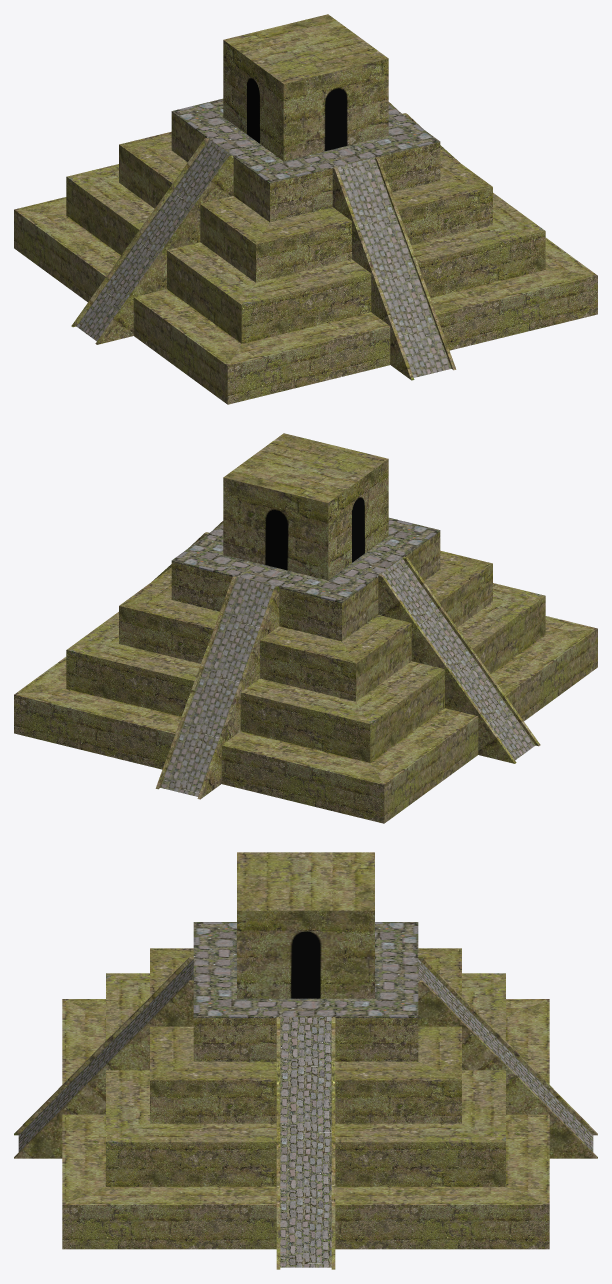
Rendered from Piramide.FBX.
The picture shows the model from 3 angles, top to bottom: view 1: azimuth 30°, elevation 25°; view 2: azimuth 150°, elevation 25°; view 3: azimuth 270°, elevation 25°; orthographic projection. The views are drawn at different scales.
Parts seen in each view (by area): view 1: Box001; view 2: Box001; view 3: Box001.
Boxes of the visible parts, <box> form: Box001: <box>14,14,597,404</box>; Box001: <box>14,433,597,823</box>; Box001: <box>14,852,597,1269</box>.
Size of the model in its own units: 4396 by 2198 by 4394.
1 material, 1 textured.
